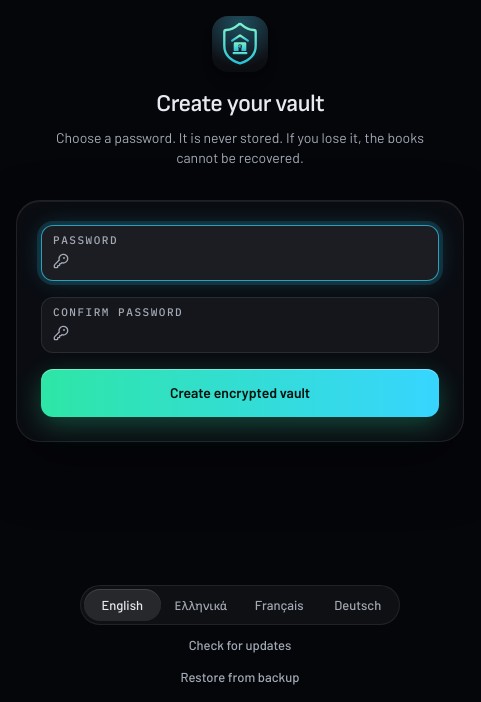
Scenario: UnlockScreen form errors › a refused short password keeps what was typed and returns to the password field
In the password field labelled "Password": {"x": 240, "y": 261} [53, 249, 427, 273], type "short-pass"
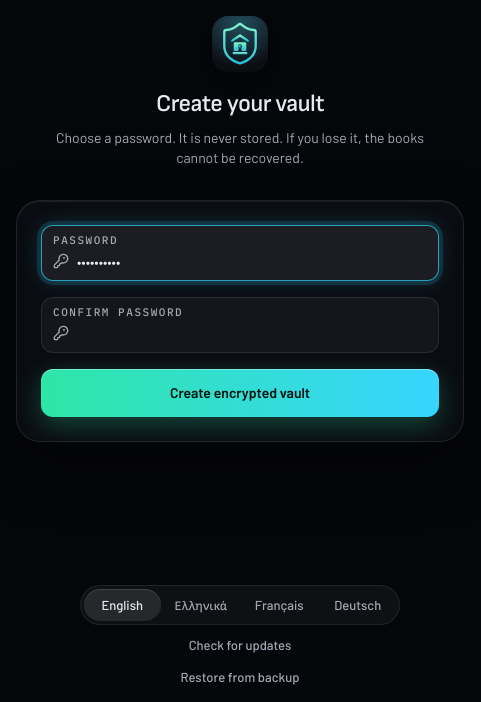
In the password field labelled "Confirm password": {"x": 240, "y": 333} [53, 321, 427, 345], type "short-pass"
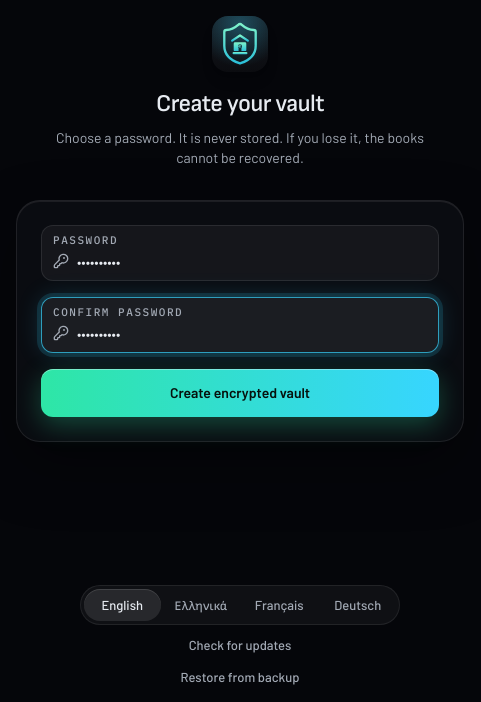
Click the button "Create encrypted vault": {"x": 240, "y": 393} [41, 369, 439, 417]
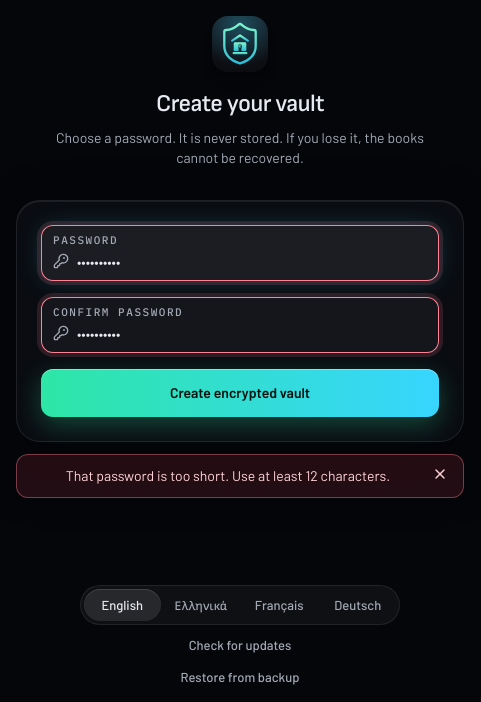
Check: the message shows "too short", box [66, 467, 390, 484]
